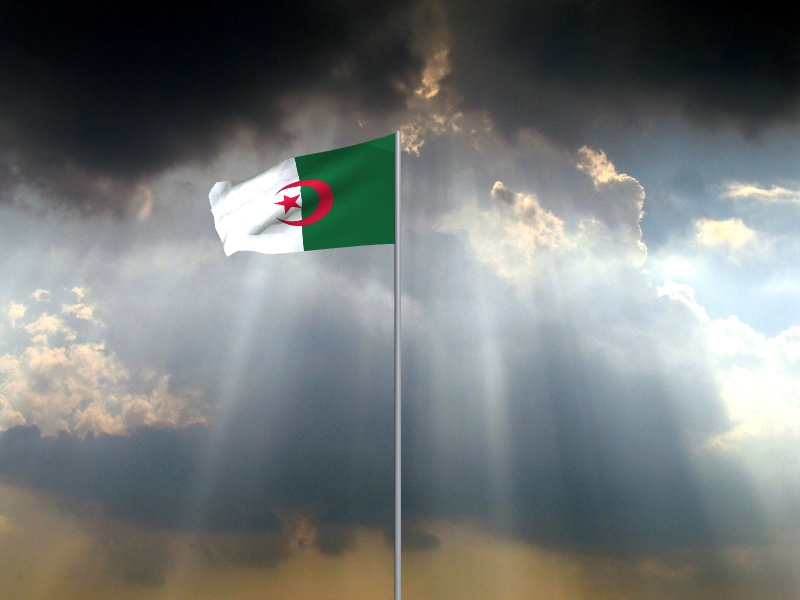dz: (208, 134, 395, 259)
